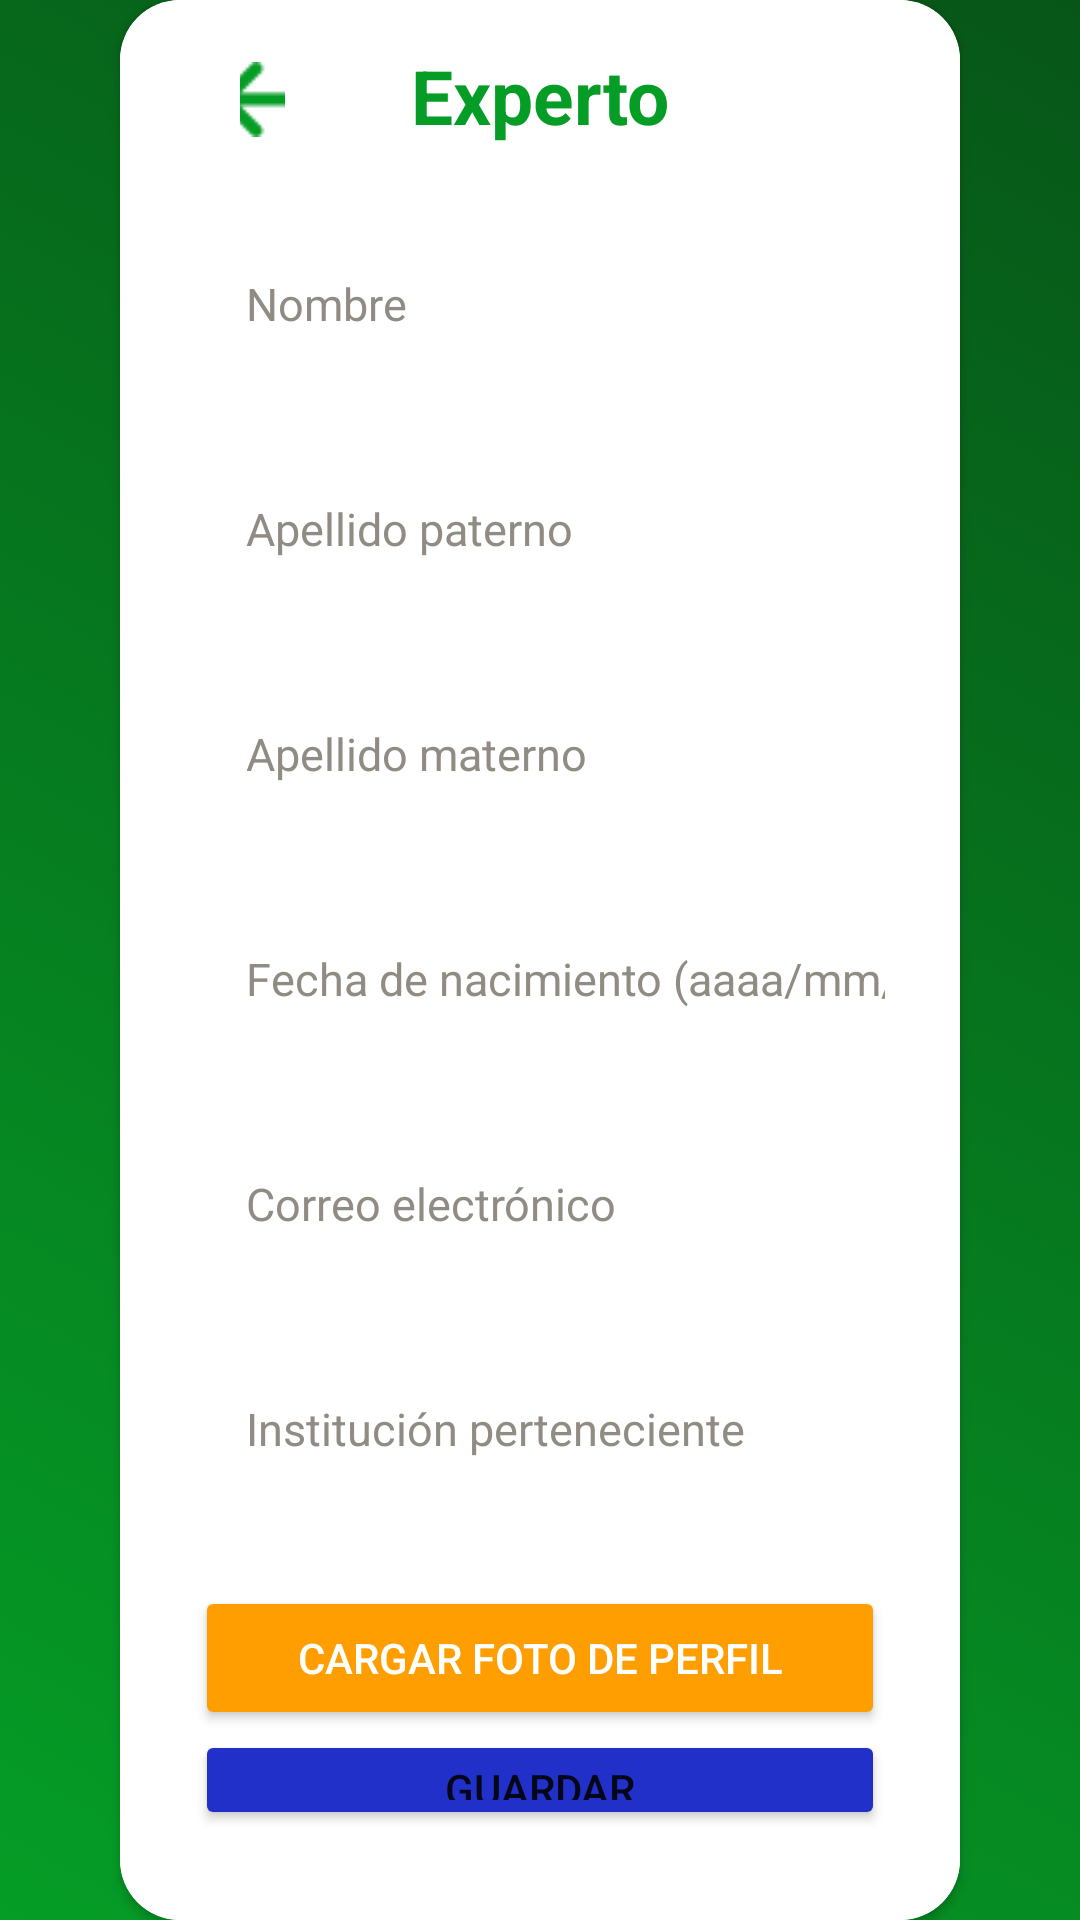

Screen size 1080x1920. Icon name, then its box in pixels as Rect(x1, y1, x2, y2):
vectorback: Rect(240, 62, 285, 137)
